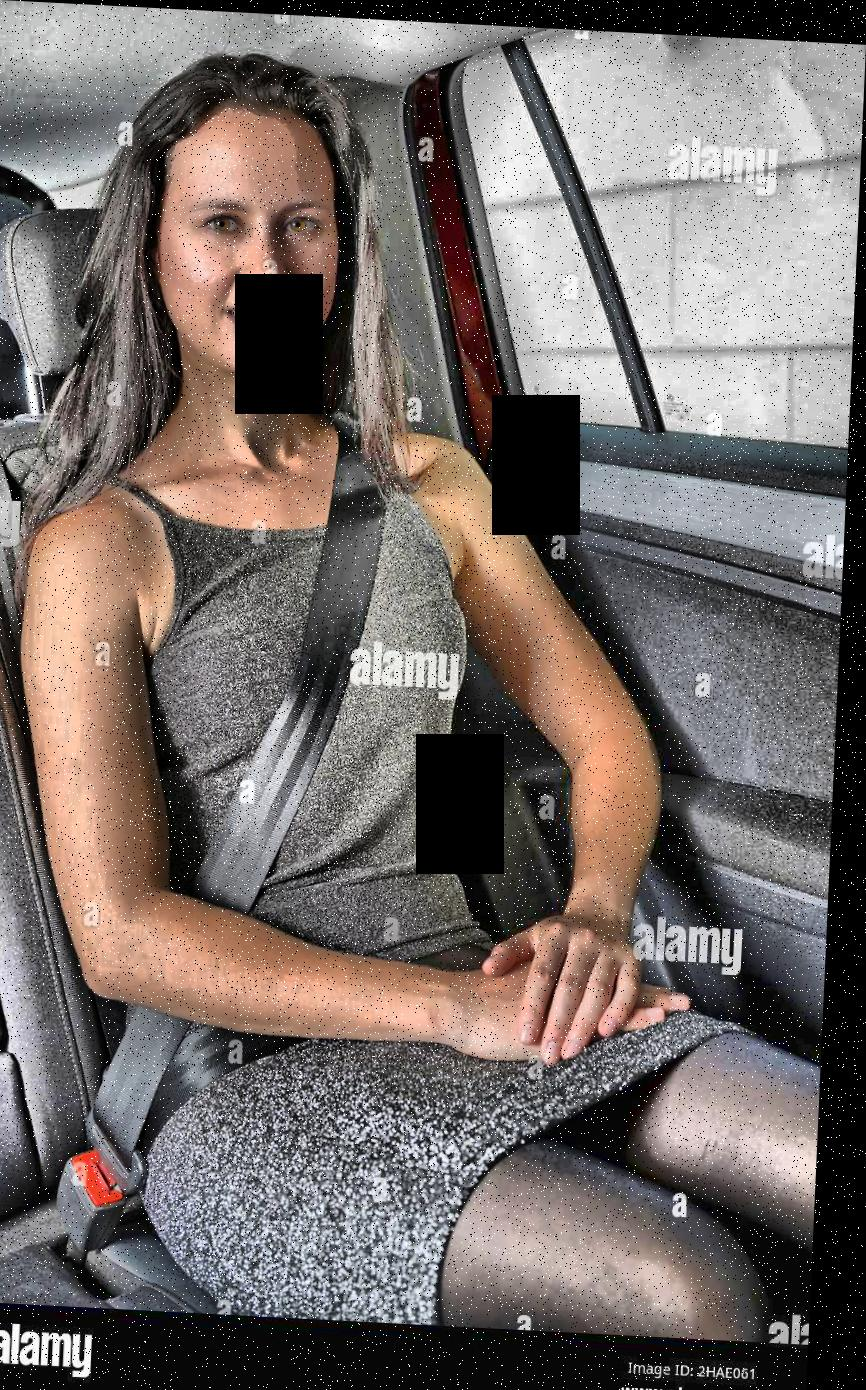seatbelt: (68, 288, 547, 1224)
